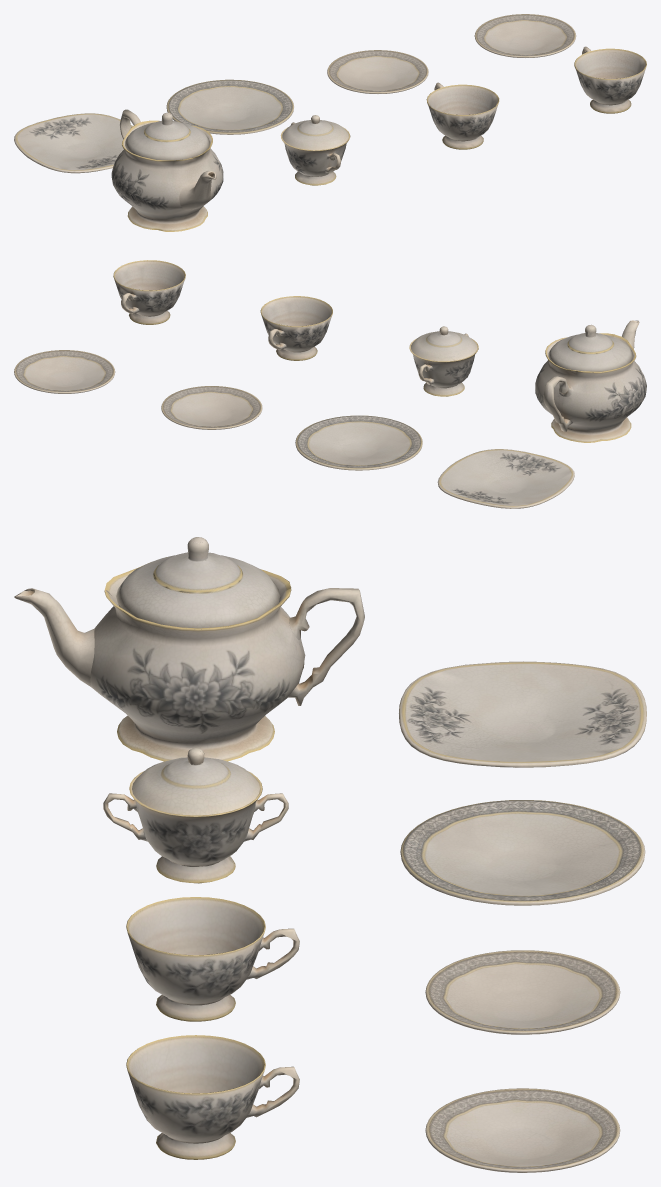
The model's file is tea_set_01.glb.
The picture shows the model from 3 angles, top to bottom: view 1: azimuth 30°, elevation 25°; view 2: azimuth 150°, elevation 25°; view 3: azimuth 270°, elevation 25°; orthographic projection. The views are drawn at different scales.
Visible parts, largest first — view 1: tea_set_01_teapot_01, tea_set_01_plate_large_circular_03, tea_set_01_plate_large_square_01, tea_set_01_cup_small_02, tea_set_01_cup_small_01, tea_set_01_saucer_circular_04, tea_set_01_saucer_circular_03, tea_set_01_teapot_01_lid, tea_set_01_sugar_cup_01, tea_set_01_sugar_cup_01_lid; view 2: tea_set_01_teapot_01, tea_set_01_plate_large_square_01, tea_set_01_plate_large_circular_03, tea_set_01_cup_small_02, tea_set_01_cup_small_01, tea_set_01_saucer_circular_04, tea_set_01_saucer_circular_03, tea_set_01_teapot_01_lid, tea_set_01_sugar_cup_01, tea_set_01_sugar_cup_01_lid; view 3: tea_set_01_teapot_01, tea_set_01_plate_large_square_01, tea_set_01_plate_large_circular_03, tea_set_01_cup_small_01, tea_set_01_cup_small_02, tea_set_01_saucer_circular_03, tea_set_01_saucer_circular_04, tea_set_01_teapot_01_lid, tea_set_01_sugar_cup_01, tea_set_01_sugar_cup_01_lid.
Part boxes in pixels (x1=…): tea_set_01_teapot_01: x1=111, y1=109, x2=223, y2=231; tea_set_01_plate_large_circular_03: x1=166, y1=79, x2=293, y2=134; tea_set_01_plate_large_square_01: x1=14, y1=113, x2=132, y2=173; tea_set_01_cup_small_02: x1=574, y1=46, x2=646, y2=113; tea_set_01_cup_small_01: x1=426, y1=82, x2=499, y2=149; tea_set_01_saucer_circular_04: x1=327, y1=50, x2=428, y2=93; tea_set_01_saucer_circular_03: x1=474, y1=14, x2=576, y2=57; tea_set_01_teapot_01_lid: x1=125, y1=112, x2=209, y2=160; tea_set_01_sugar_cup_01: x1=280, y1=122, x2=350, y2=185; tea_set_01_sugar_cup_01_lid: x1=282, y1=115, x2=348, y2=150; tea_set_01_teapot_01: x1=535, y1=320, x2=646, y2=442; tea_set_01_plate_large_square_01: x1=437, y1=449, x2=574, y2=508; tea_set_01_plate_large_circular_03: x1=295, y1=415, x2=422, y2=470; tea_set_01_cup_small_02: x1=113, y1=260, x2=185, y2=324; tea_set_01_cup_small_01: x1=260, y1=296, x2=332, y2=360; tea_set_01_saucer_circular_04: x1=161, y1=386, x2=262, y2=429; tea_set_01_saucer_circular_03: x1=14, y1=350, x2=115, y2=393; tea_set_01_teapot_01_lid: x1=548, y1=324, x2=633, y2=371; tea_set_01_sugar_cup_01: x1=409, y1=333, x2=478, y2=396; tea_set_01_sugar_cup_01_lid: x1=411, y1=326, x2=477, y2=361; tea_set_01_teapot_01: x1=14, y1=557, x2=364, y2=761; tea_set_01_plate_large_square_01: x1=399, y1=661, x2=646, y2=767; tea_set_01_plate_large_circular_03: x1=400, y1=800, x2=645, y2=905; tea_set_01_cup_small_01: x1=126, y1=897, x2=299, y2=1021; tea_set_01_cup_small_02: x1=126, y1=1035, x2=299, y2=1159; tea_set_01_saucer_circular_03: x1=425, y1=1088, x2=620, y2=1172; tea_set_01_saucer_circular_04: x1=425, y1=950, x2=620, y2=1034; tea_set_01_teapot_01_lid: x1=116, y1=537, x2=280, y2=628; tea_set_01_sugar_cup_01: x1=103, y1=771, x2=288, y2=883; tea_set_01_sugar_cup_01_lid: x1=132, y1=748, x2=259, y2=815.
Size of the model in its own units: 0.9185 by 0.165 by 0.4841.
Materials: 1 (1 with a texture image).
